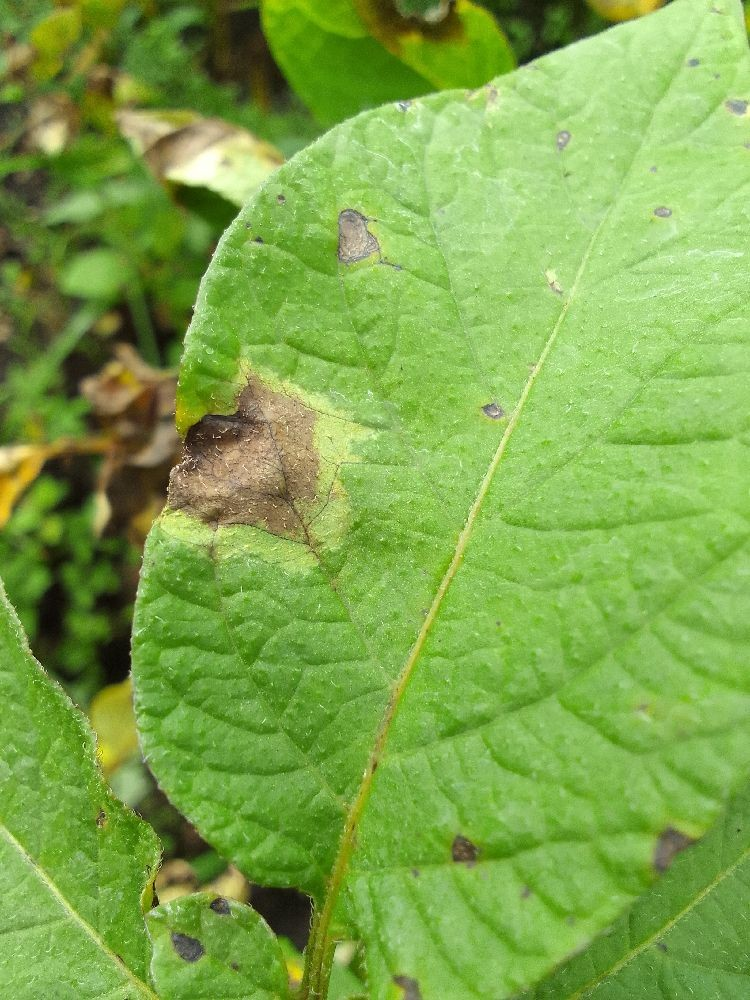late_blight: (0, 291, 338, 619), (0, 141, 109, 417), (164, 0, 313, 132), (340, 0, 477, 70)
